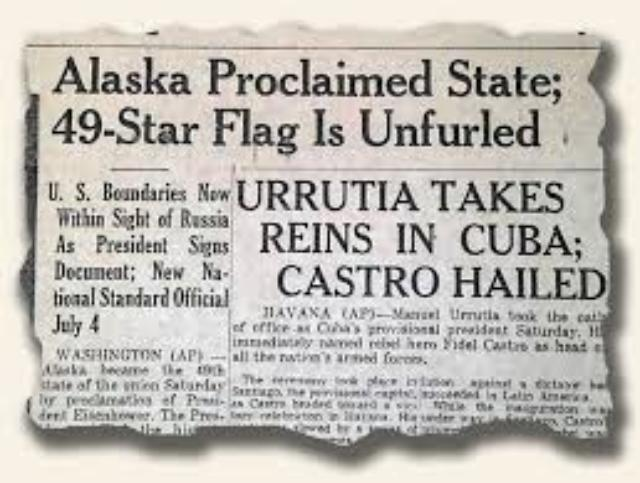cardboard paper: (22, 25, 608, 442)
